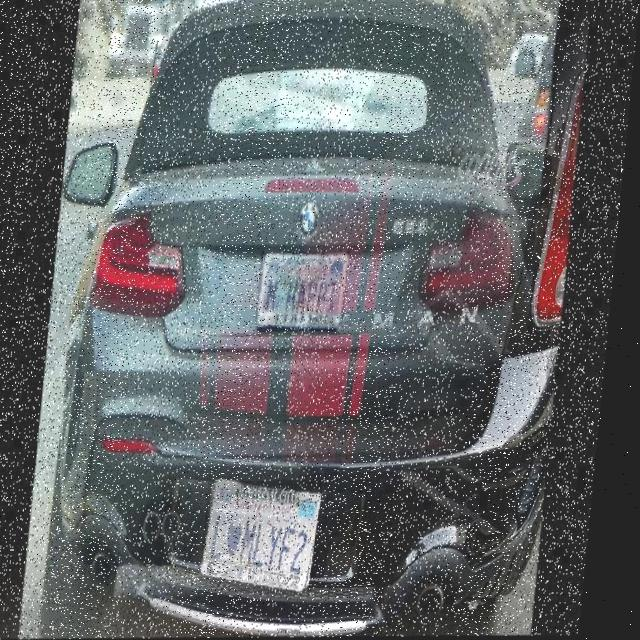LicensePlate: (210, 481, 332, 594), (261, 252, 355, 332)
